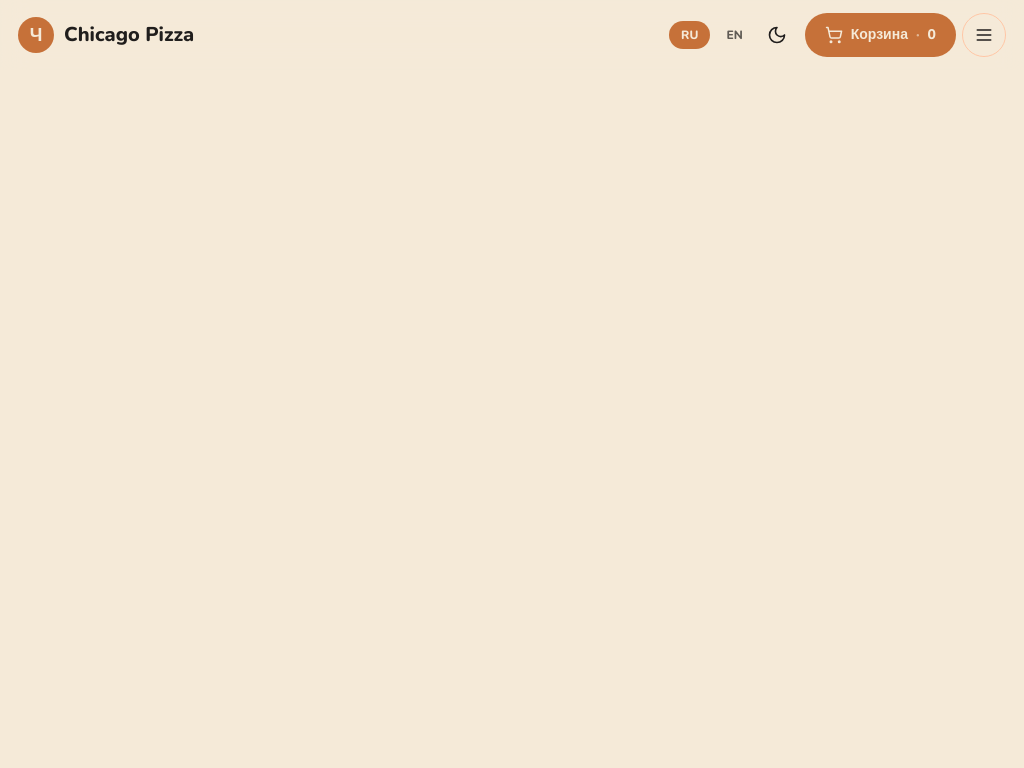
Test: Header — mobile sheet › opens and closes the full-screen menu
Click the button named "Меню".
click(984, 35)  # box [962,13,1006,57]
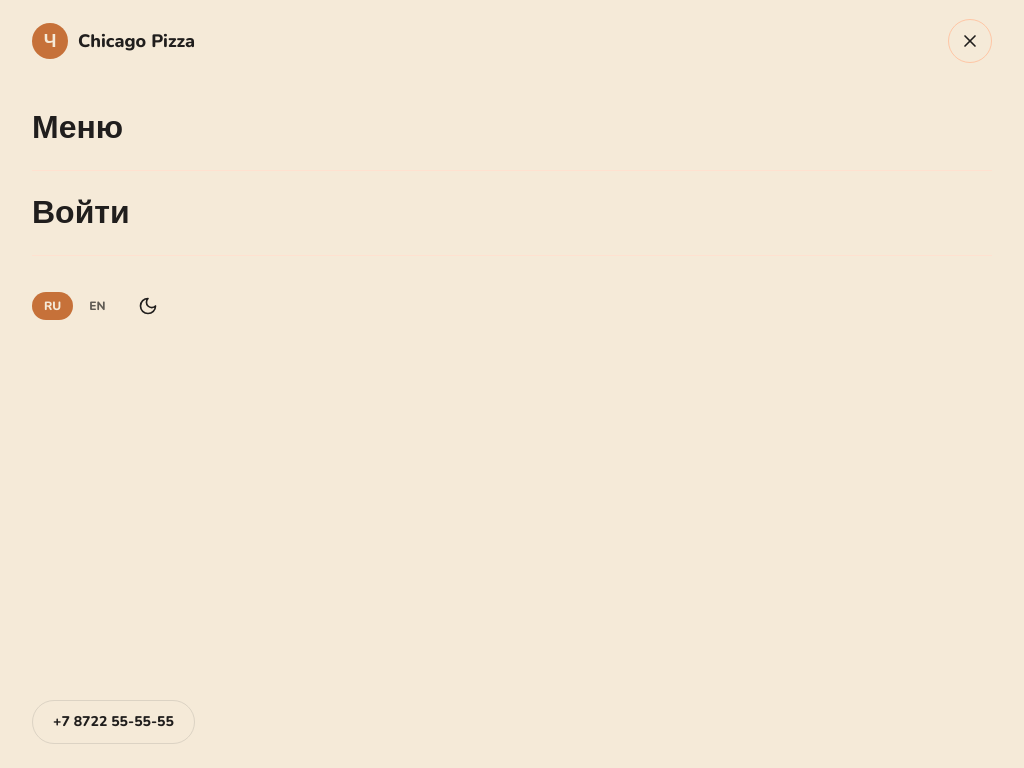
Now the button named "Закрыть" is shown
Click the button named "Закрыть".
click(970, 41)  # box [948,19,992,63]
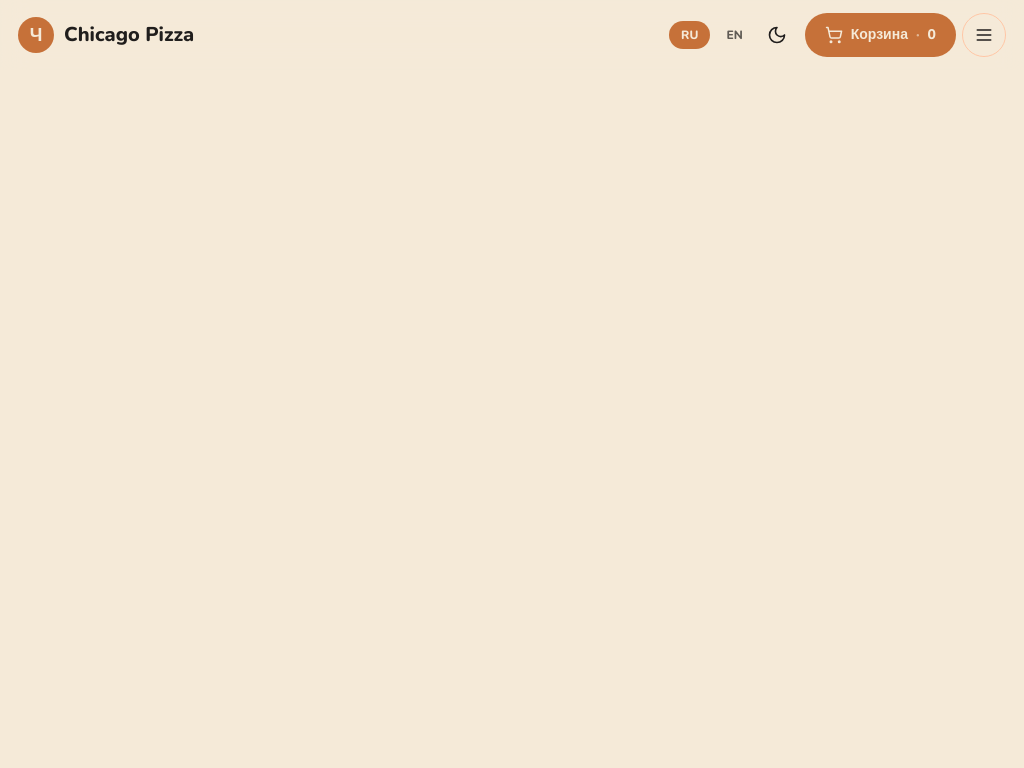
Now the button "Закрыть" is gone
